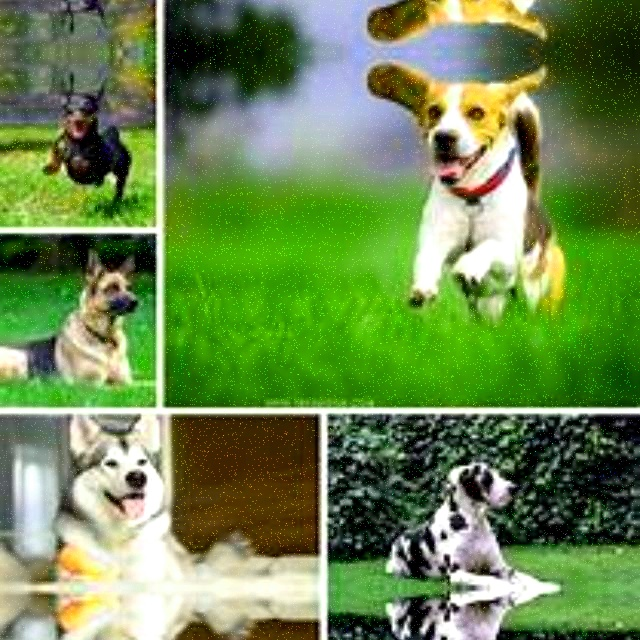dog: (368, 56, 630, 317), (54, 412, 238, 588), (373, 441, 559, 587), (4, 256, 184, 386), (24, 80, 154, 212), (368, 0, 630, 48), (373, 587, 559, 640), (54, 588, 238, 640), (24, 0, 154, 23)
